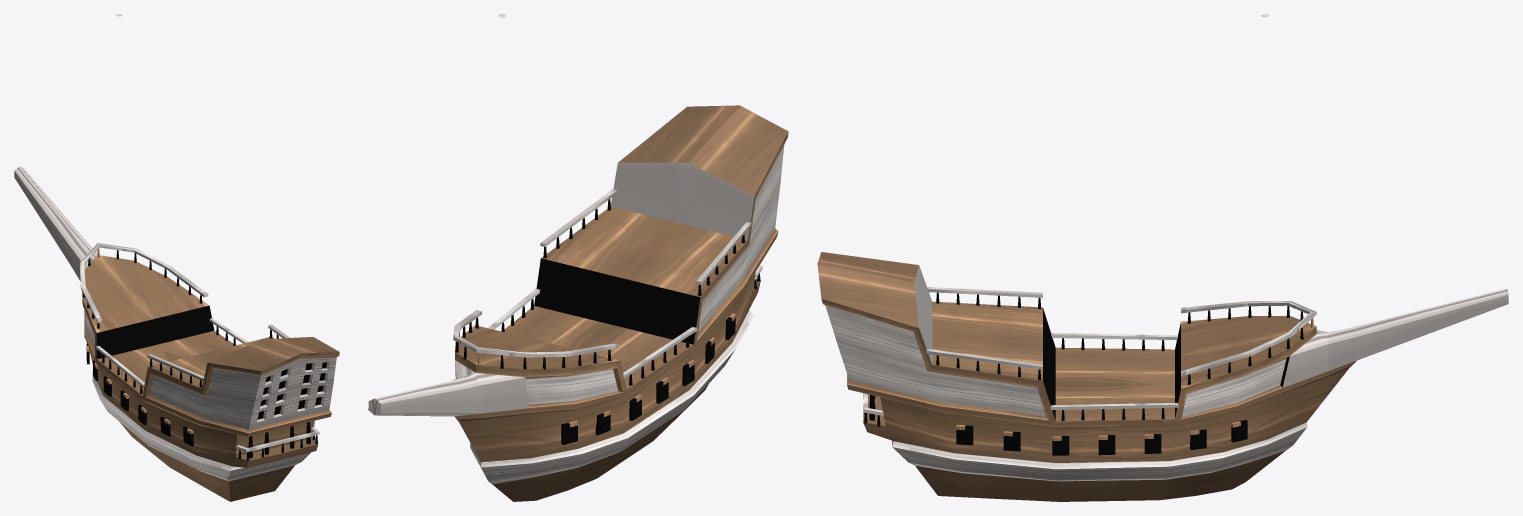
The model's file is A_HA_GEN_Ship_01.fbx.
The picture shows the model from 3 angles, left to right: view 1: azimuth 30°, elevation 25°; view 2: azimuth 150°, elevation 25°; view 3: azimuth 270°, elevation 25°; orthographic projection. The views are drawn at different scales.
Visible parts, largest first — view 1: A_HA_Gen_Ship_01; view 2: A_HA_Gen_Ship_01; view 3: A_HA_Gen_Ship_01.
Boxes of the visible parts, x1=… form: A_HA_Gen_Ship_01: x1=14, y1=14, x2=339, y2=501; A_HA_Gen_Ship_01: x1=368, y1=14, x2=788, y2=501; A_HA_Gen_Ship_01: x1=817, y1=14, x2=1508, y2=501.
Bounding box in the file's own units: 1003 × 2942 × 3944.
Materials: 1 (1 with a texture image).
